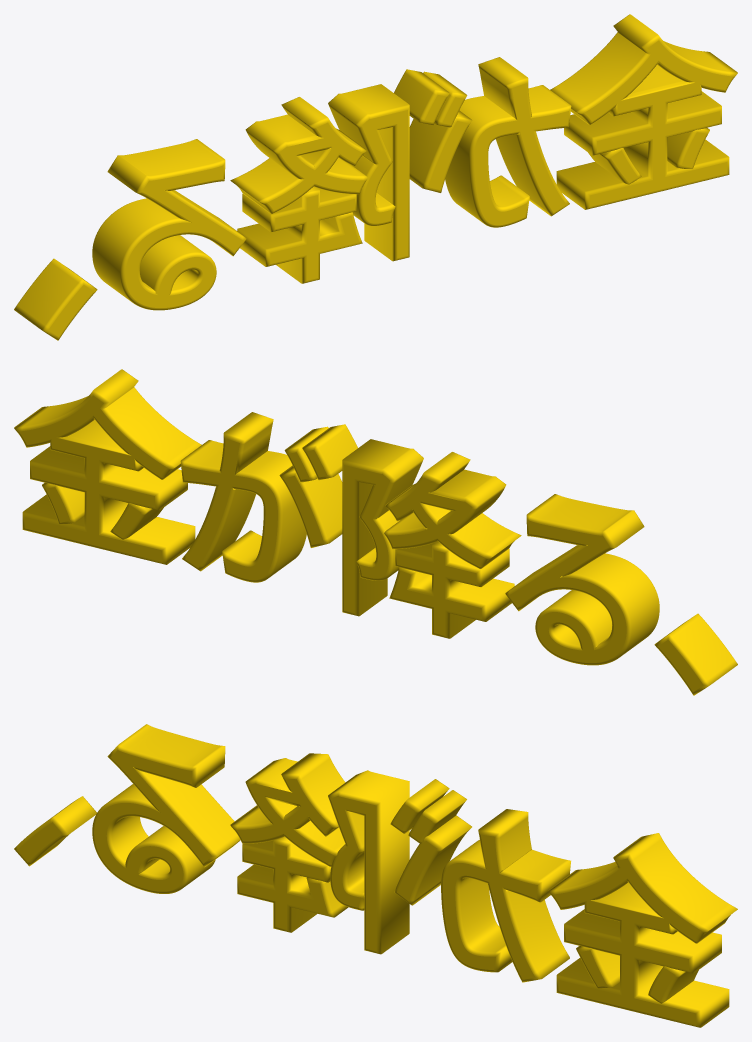
Rendered from title01.obj.
3 views of the same model, one above another, from view 1: azimuth 30°, elevation 25°; view 2: azimuth 150°, elevation 25°; view 3: azimuth 330°, elevation 25° (orthographic).
Parts seen in each view (by area): view 1: テキスト; view 2: テキスト; view 3: テキスト.
Part boxes in pixels (x1=…): テキスト: x1=14, y1=14, x2=737, y2=340; テキスト: x1=14, y1=369, x2=737, y2=695; テキスト: x1=14, y1=724, x2=737, y2=1027.
Bounding box in the file's own units: 4.38 × 0.9741 × 0.34.
1 material, 1 textured.
